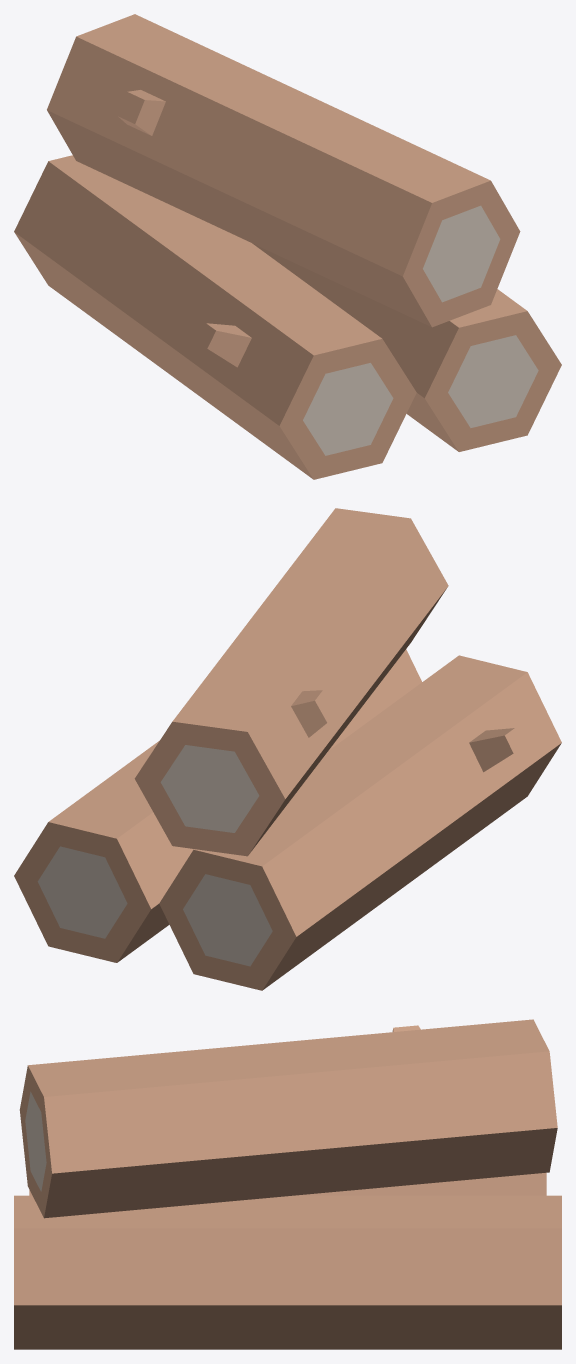
File: log_stack.glb
3 renders of one model, top to bottom at view 1: azimuth 30°, elevation 25°; view 2: azimuth 150°, elevation 25°; view 3: azimuth 270°, elevation 25°, orthographic. The views are drawn at different scales.
Parts seen in each view (by area): view 1: log_stack; view 2: log_stack; view 3: log_stack.
Boxes of the visible parts, x1,y1,x2,y2 form: log_stack: [14, 14, 561, 479]; log_stack: [14, 508, 561, 990]; log_stack: [14, 1019, 561, 1349].
Bounding box in the file's own units: 0.4247 × 0.3464 × 0.71.
